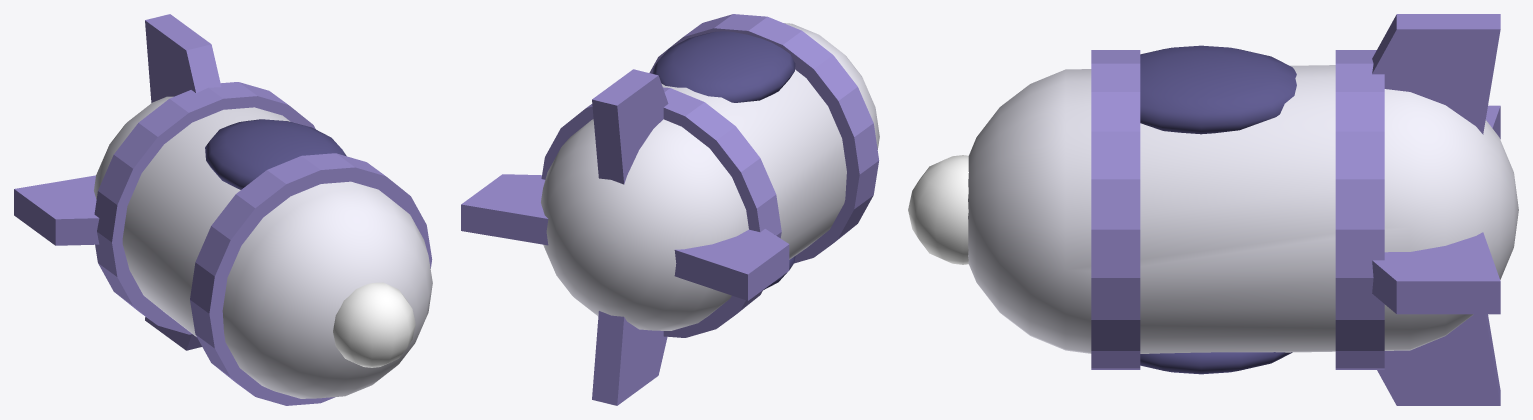
3 renders of one model, left to right at view 1: azimuth 30°, elevation 25°; view 2: azimuth 150°, elevation 25°; view 3: azimuth 270°, elevation 25°, orthographic. The views are drawn at different scales.
Visible parts, largest first — view 1: CapsuleBody, CapsuleTrim, CapsuleWindow, CapsuleLamp; view 2: CapsuleBody, CapsuleTrim, CapsuleWindow; view 3: CapsuleBody, CapsuleTrim, CapsuleWindow, CapsuleLamp.
Part boxes in pixels (left/top/right/bottom): CapsuleBody: left=94, top=96, right=432, bottom=398; CapsuleTrim: left=14, top=14, right=432, bottom=405; CapsuleWindow: left=205, top=119, right=346, bottom=189; CapsuleLamp: left=333, top=282, right=415, bottom=367; CapsuleBody: left=541, top=23, right=879, bottom=330; CapsuleTrim: left=461, top=14, right=879, bottom=405; CapsuleWindow: left=652, top=31, right=795, bottom=289; CapsuleBody: left=968, top=65, right=1518, bottom=353; CapsuleTrim: left=1091, top=14, right=1500, bottom=405; CapsuleWindow: left=1140, top=45, right=1296, bottom=374; CapsuleLamp: left=908, top=155, right=968, bottom=264.
Size of the model in its own units: 0.34 by 0.34 by 0.5.
